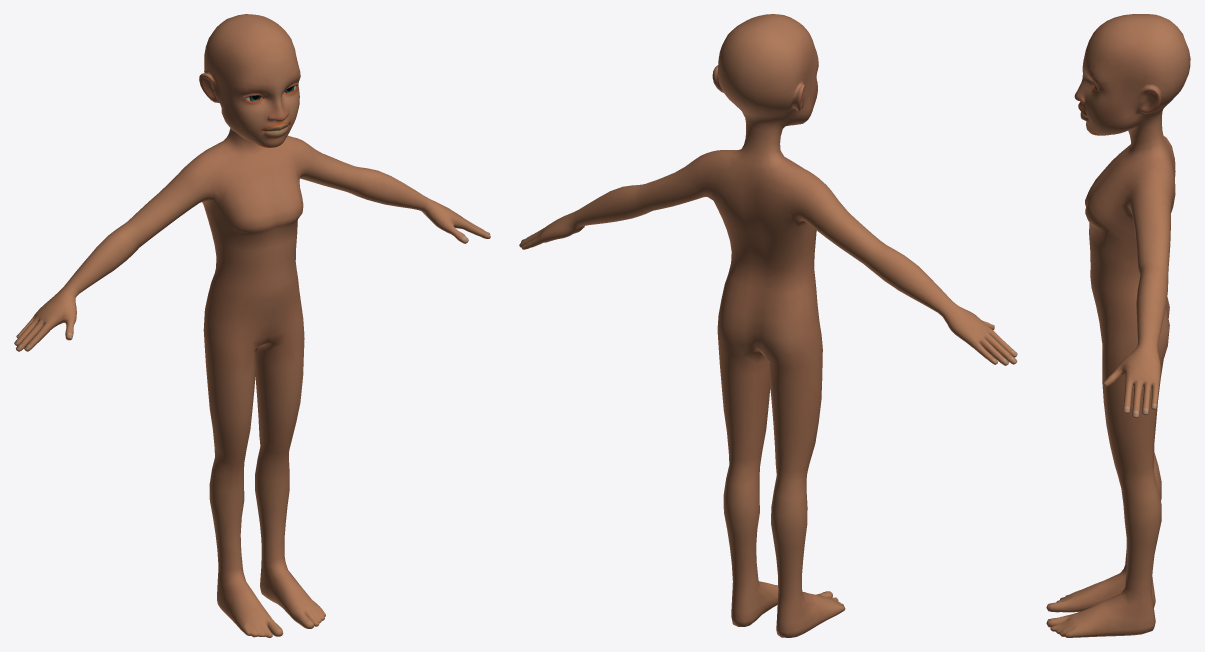
Rendered from frame_0034.glb.
3 renders of one model, left to right at view 1: azimuth 30°, elevation 25°; view 2: azimuth 150°, elevation 25°; view 3: azimuth 270°, elevation 25°, orthographic. The views are drawn at different scales.
Visible parts, largest first — view 1: frame_0034_head_geo; view 2: frame_0034_head_geo; view 3: frame_0034_head_geo.
Boxes of the visible parts, <box> form: frame_0034_head_geo: <box>14,14,490,637</box>; frame_0034_head_geo: <box>519,14,1017,637</box>; frame_0034_head_geo: <box>1046,14,1190,637</box>.
Size of the model in its own units: 1.28 by 1.5 by 0.3253.
Materials: 3 (3 with a texture image).
